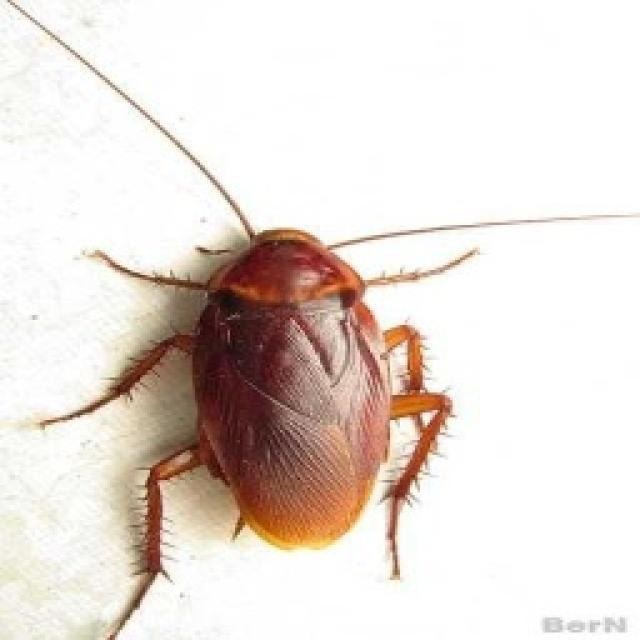cockroach: (121, 175, 453, 597)
